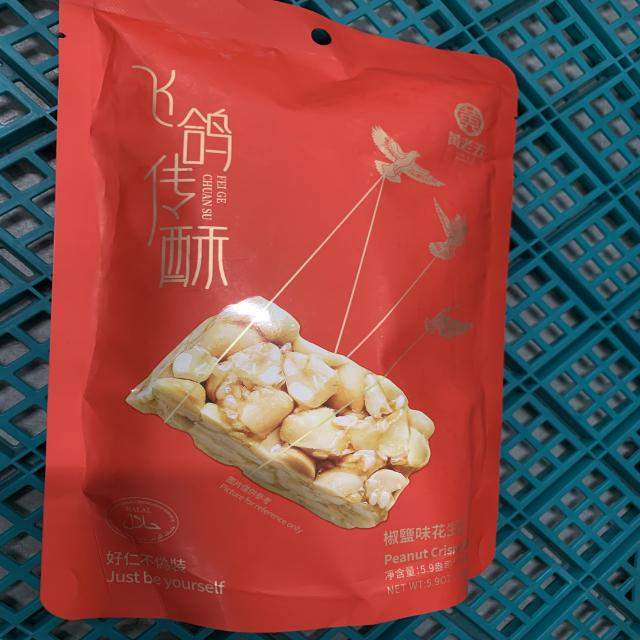object_name: (61, 2, 506, 619)
